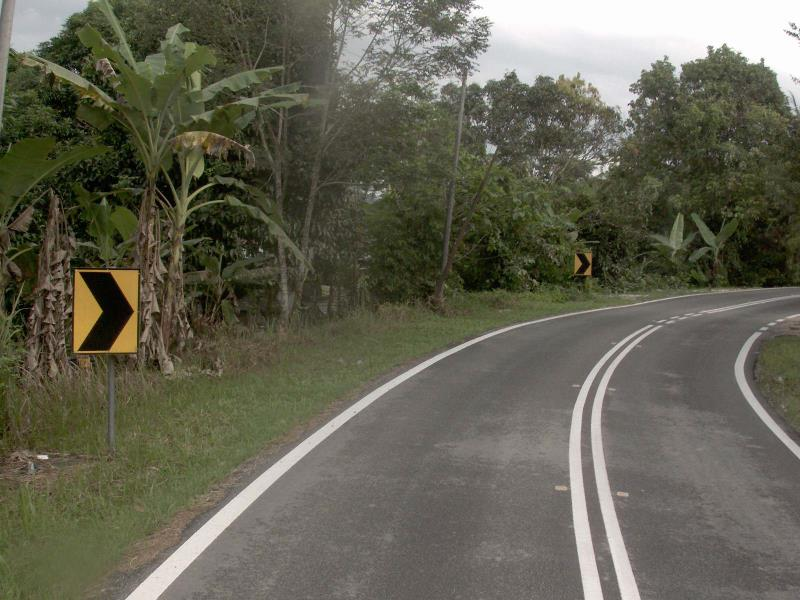traffic_sign: (63, 258, 150, 369)
